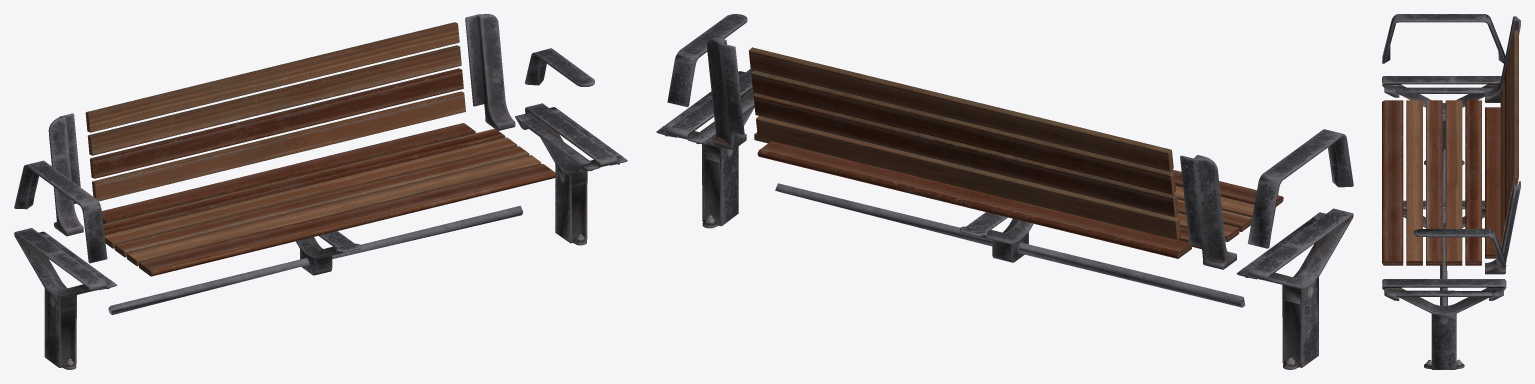
Rendered from bench.glb.
3 views of the same model, side by side, from view 1: azimuth 30°, elevation 25°; view 2: azimuth 150°, elevation 25°; view 3: azimuth 270°, elevation 25° (orthographic). The views are drawn at different scales.
Visible parts, largest first — view 1: seat_back, seat, legs_double, legs_single, back_support_l, crossbar, arm_rest_01, back_support_r, suspended_support_01, arm_rest_02; view 2: seat_back, seat, legs_single, legs_double, crossbar, back_support_r, arm_rest_01, back_support_l, arm_rest_02, suspended_support_01; view 3: seat, legs_double, seat_back, legs_single, arm_rest_01, arm_rest_02, back_support_l, back_support_r, crossbar, suspended_support_01.
Boxes of the visible parts, x1,y1,x2,y2 form: seat_back: (85,22,465,201); seat: (102,123,556,276); legs_double: (515,103,627,245); legs_single: (14,228,116,369); back_support_l: (465,14,515,130); crossbar: (108,205,522,314); arm_rest_01: (14,160,107,263); back_support_r: (48,113,83,236); suspended_support_01: (296,231,360,275); arm_rest_02: (525,48,594,86); seat_back: (748,47,1180,239); seat: (754,132,1283,258); legs_single: (1236,208,1353,369); legs_double: (656,69,756,228); crossbar: (775,183,1245,307); back_support_r: (1180,155,1236,269); arm_rest_01: (1247,129,1353,248); back_support_l: (706,37,746,149); arm_rest_02: (667,14,747,106); suspended_support_01: (960,212,1033,262); seat: (1382,100,1502,265); legs_double: (1382,279,1506,369); seat_back: (1500,30,1518,244); legs_single: (1382,76,1501,165); arm_rest_01: (1382,14,1505,63); arm_rest_02: (1413,228,1506,266); back_support_l: (1485,181,1520,274); back_support_r: (1485,16,1520,102); crossbar: (1440,149,1447,305); suspended_support_01: (1403,200,1484,228).
Bounding box in the file's own units: 2.45 × 0.8669 × 0.6704.
3 materials, 3 textured.
